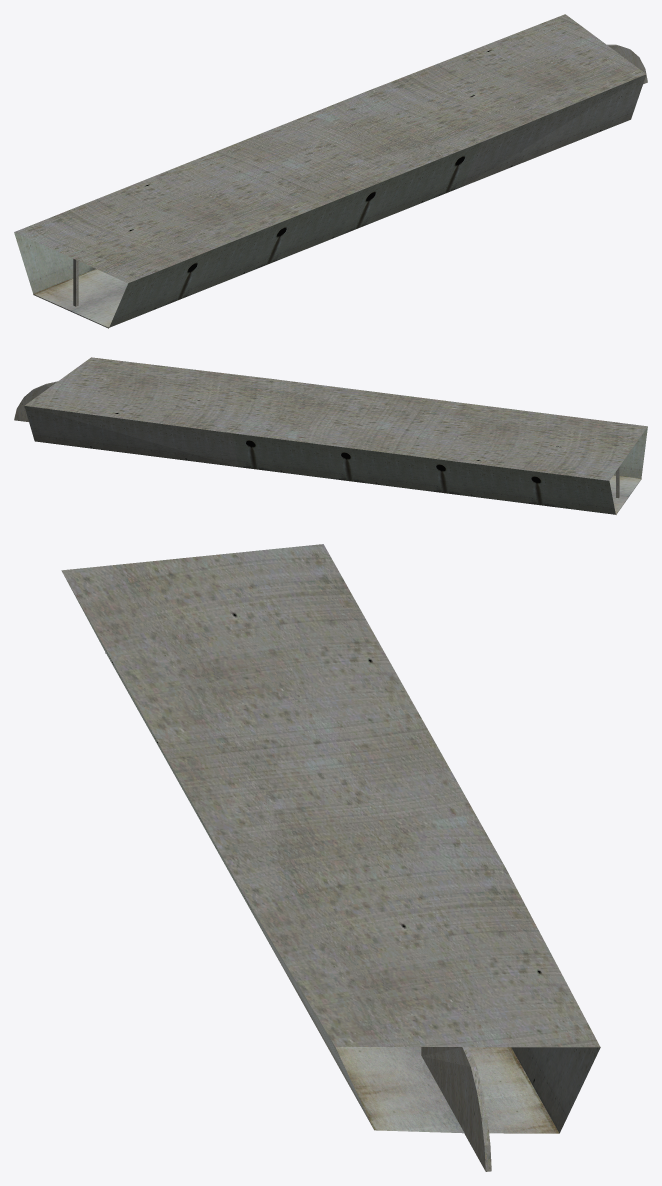
Rendered from lariversec5a_lan.obj.
3 views of the same model, one above another, from view 1: azimuth 30°, elevation 25°; view 2: azimuth 150°, elevation 25°; view 3: azimuth 270°, elevation 25° (orthographic). The views are drawn at different scales.
Parts seen in each view (by area): view 1: LAriverSec5a_LAn; view 2: LAriverSec5a_LAn; view 3: LAriverSec5a_LAn.
Boxes of the visible parts, x1,y1,x2,y2 form: LAriverSec5a_LAn: (14,14,647,328); LAriverSec5a_LAn: (14,357,647,514); LAriverSec5a_LAn: (61,544,600,1171).
Size of the model in its own units: 104 by 7.9 by 43.99.
